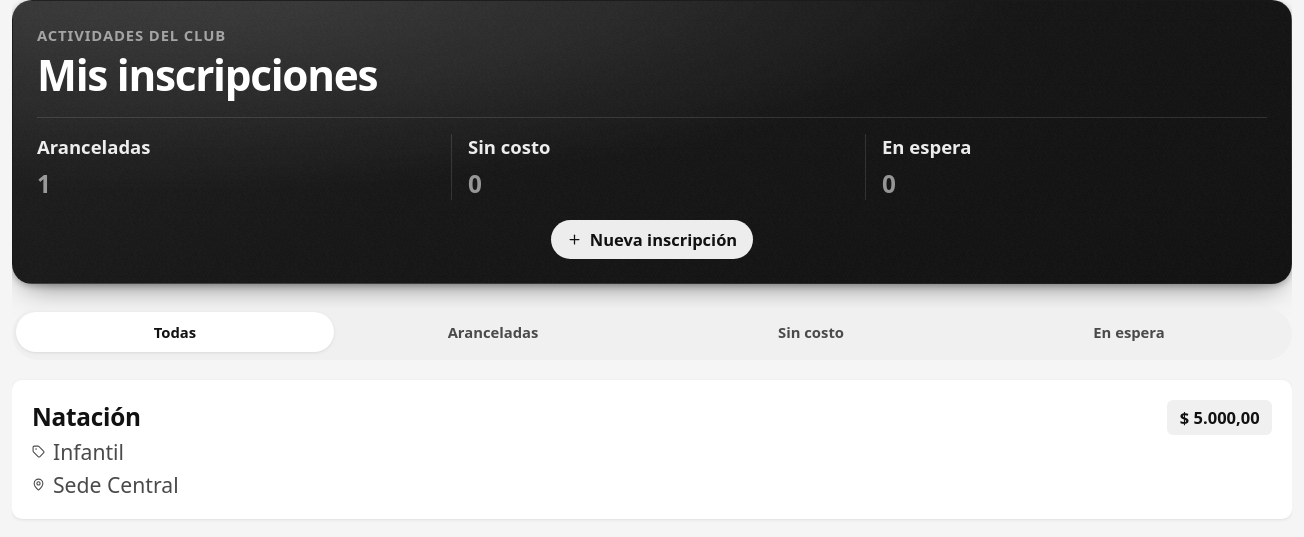
Test: InscripcionesPage › al clickear una card se abre el detalle con el botón "Dar de Baja"
Click the text "Natación" at (86, 417), box [32,400,141,433]
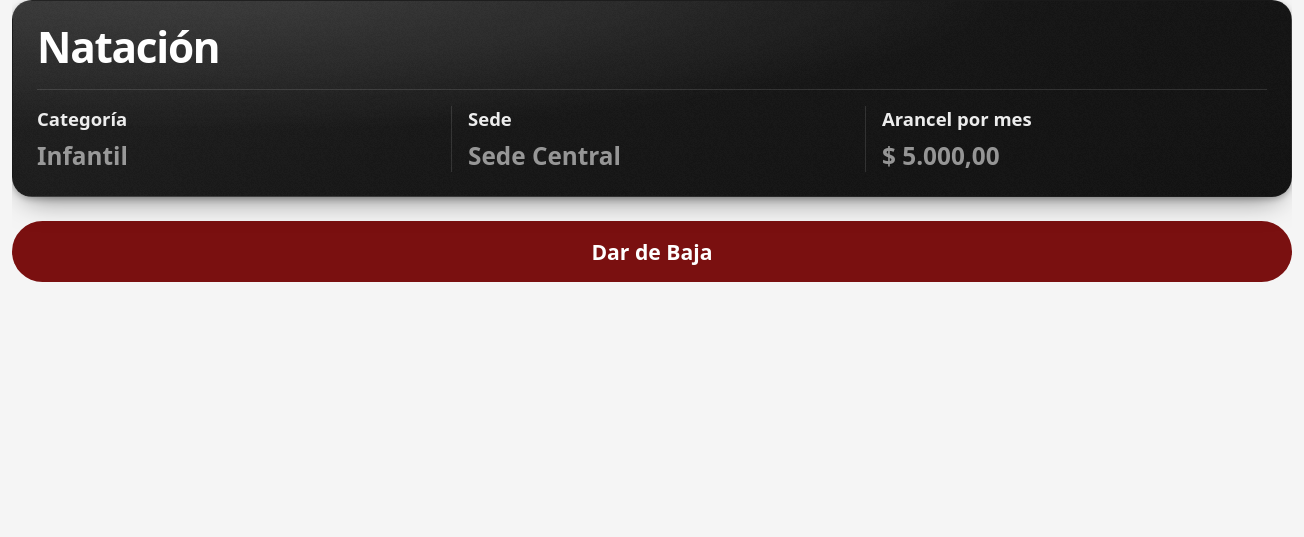
Expected: the button "Dar de Baja" is shown, [12,221,1292,282]
